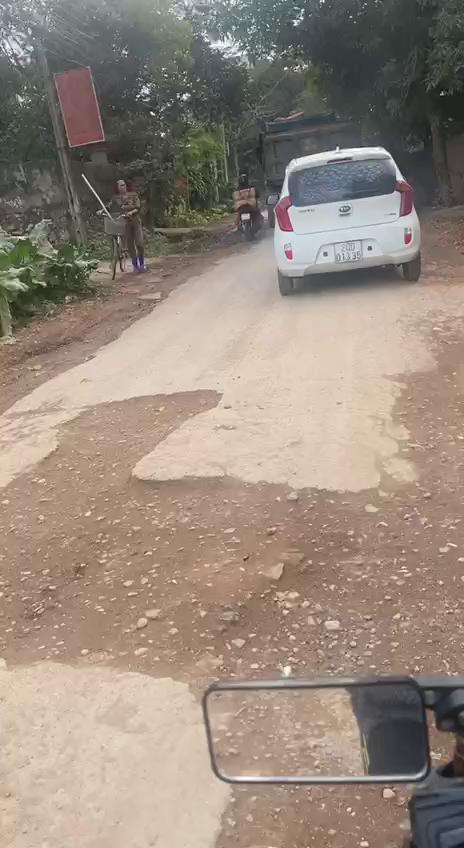pothole: (0, 386, 464, 698), (383, 301, 464, 522), (208, 778, 450, 848)
